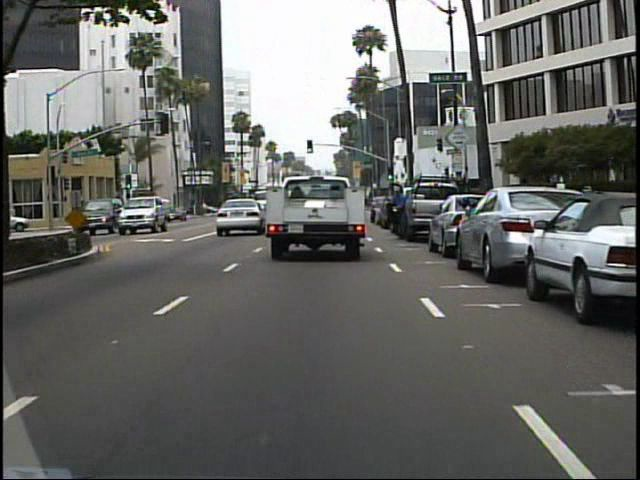person: (385, 184, 408, 237)
